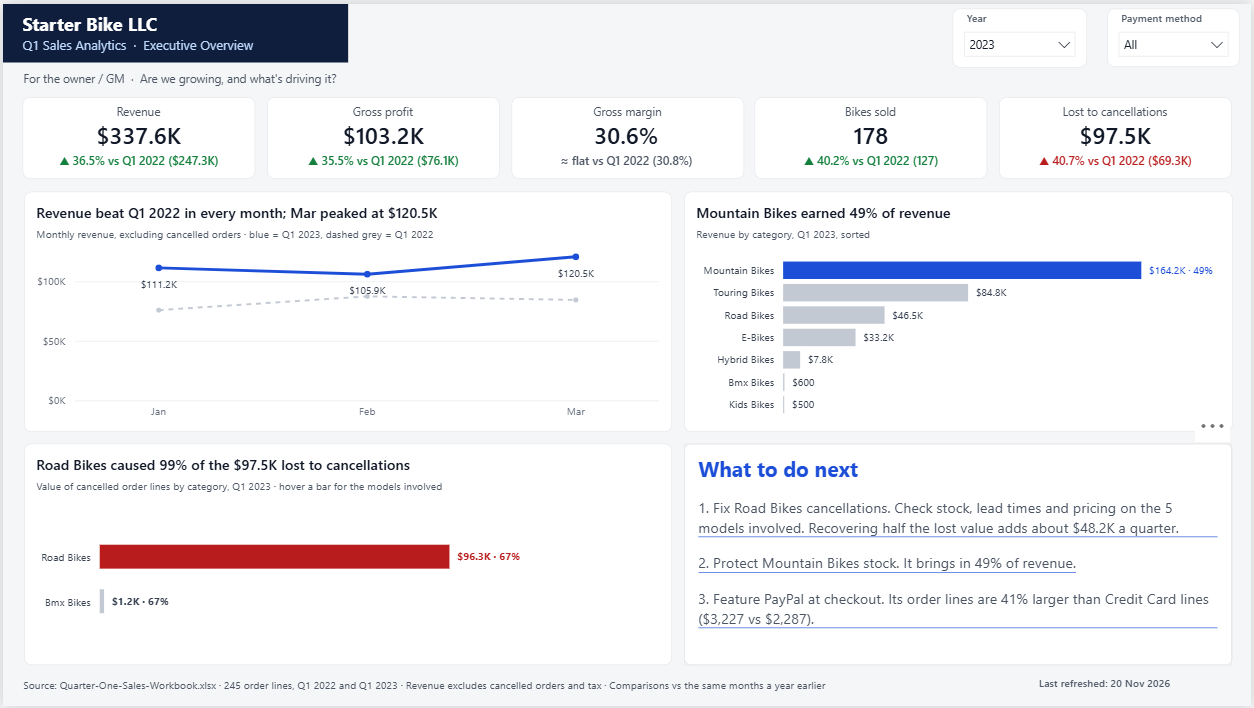

The page's visual inventory and layout, read from the dashboard file:
{"tool":"powerbi","page":{"name":"Executive Overview","canvas":[1280,720],"ordinal":0},"visuals":[{"type":"cardVisual","fields":{"Data":["Measure.Quantity Sold","Measure.Total Revenue","Measure.Total Profit","Measure.Total Tax Due","Measure.Average Order Value"]},"box":[11.9,83.6,1261,77],"z":0},{"type":"slicer","fields":{"Values":["Date.Year"]},"box":[650.4,4,119.5,66.4],"z":1000},{"type":"lineChart","title":"Total Revenue  by Month","fields":{"Category":["Date.Month"],"Y":["Sum(Sales.Sales Amount)"]},"box":[11.9,175.2,444.7,274.8],"z":2000},{"type":"clusteredColumnChart","title":"Total Revenue by Payment Method","fields":{"Category":["Sales.Payment Method"],"Y":["Sum(Sales.Revenue)"]},"box":[465.9,175.2,351.7,538.9],"z":3000},{"type":"donutChart","fields":{"Category":["Sales.Order Status"],"Y":["Sum(Sales.Order Quantity)"]},"box":[10,459.8,446.5,254.9],"z":4000},{"type":"clusteredBarChart","title":"Total Revenue by Product Category ","fields":{"Category":["Sales.Product Category "],"Y":["Sum(Sales.Sales Amount)"]},"box":[825.6,175.2,447.3,274.8],"z":5000},{"type":"slicer","fields":{"Values":["Sales.Product Category "]},"box":[853.5,4,172.6,67.7],"z":6000},{"type":"slicer","fields":{"Values":["Sales.Payment Method"]},"box":[1084.4,4,185.8,67.7],"z":7000},{"type":"lineChart","title":"Change in Order Volume by Month","fields":{"Category":["Date.Date.Variation.Date Hierarchy.Month"],"Y":["Measure.Total Shipped Order","Measure.Total Orders Under Process","Measure.Total Cancelled Order"]},"box":[825.2,460.3,448.2,254.4],"z":8000},{"type":"textbox","box":[11.9,18.6,558.8,65],"z":8001}]}

Visuals, with their boxes in screenshot pixels (x1, y1, x2, y2), scaled from the page's 1280x720 canvas onto the 1254x708 screenshot:
cardVisual - Measure.Quantity Sold x Measure.Total Revenue: (x1=12, y1=82, x2=1247, y2=158)
slicer - Date.Year: (x1=637, y1=4, x2=754, y2=69)
"Total Revenue  by Month" lineChart: (x1=12, y1=172, x2=447, y2=442)
"Total Revenue by Payment Method" clusteredColumnChart: (x1=456, y1=172, x2=801, y2=702)
donutChart - Sales.Order Status x Sum(Sales.Order Quantity): (x1=10, y1=452, x2=447, y2=703)
"Total Revenue by Product Category " clusteredBarChart: (x1=809, y1=172, x2=1247, y2=442)
slicer - Sales.Product Category : (x1=836, y1=4, x2=1005, y2=71)
slicer - Sales.Payment Method: (x1=1062, y1=4, x2=1244, y2=71)
"Change in Order Volume by Month" lineChart: (x1=808, y1=453, x2=1248, y2=703)
textbox: (x1=12, y1=18, x2=559, y2=82)
